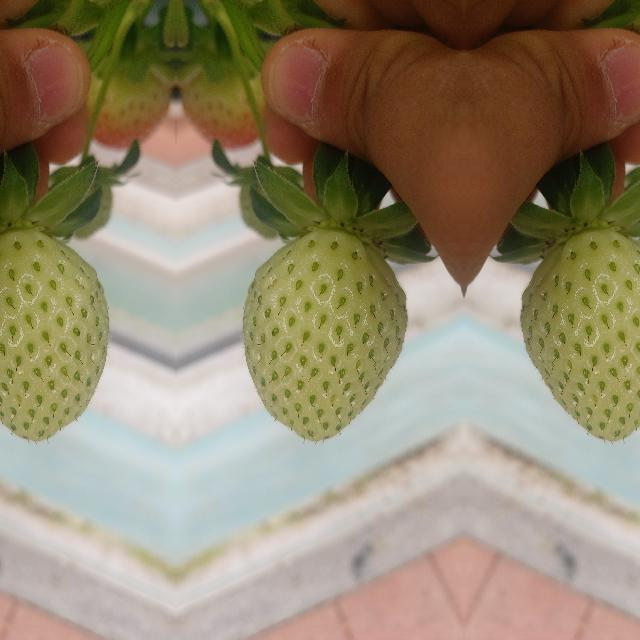Health_25: (242, 230, 406, 440), (519, 229, 640, 440), (0, 229, 108, 440)
